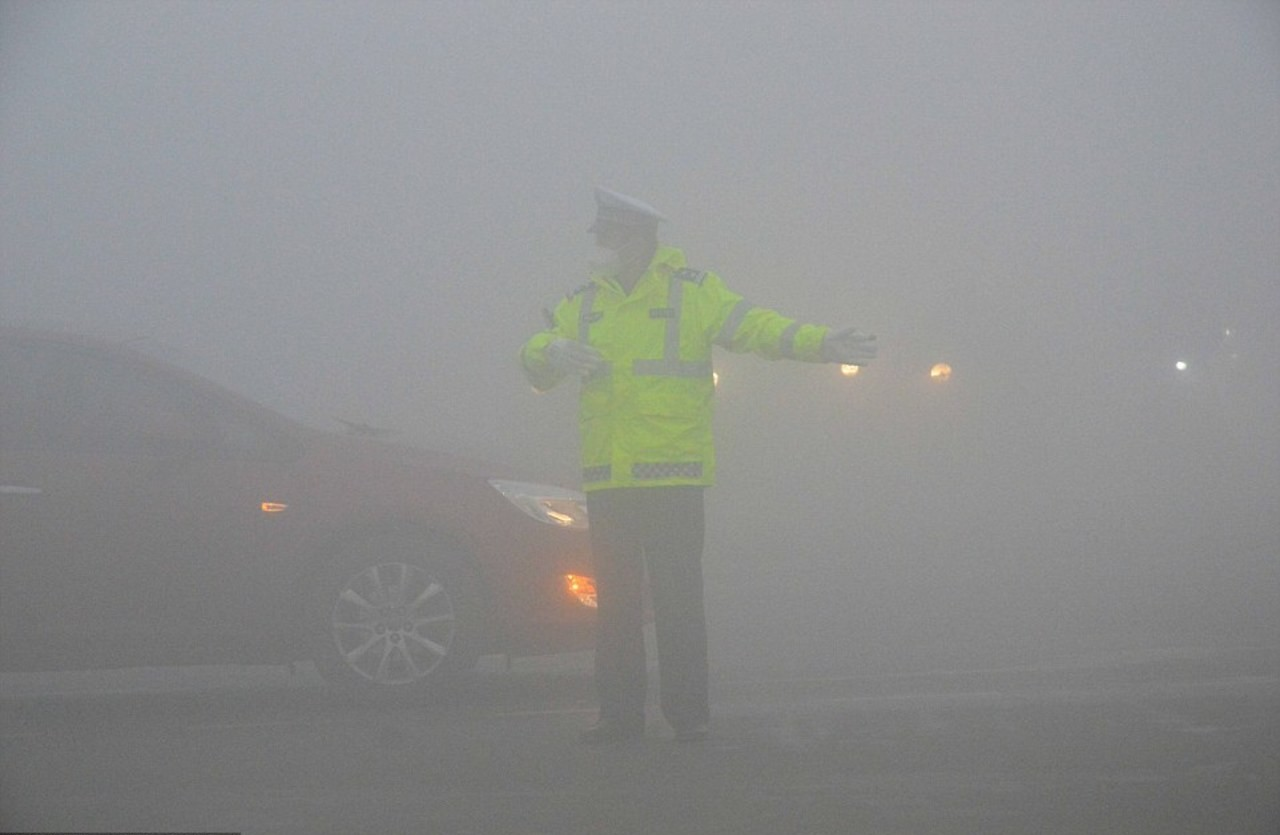car: (3, 318, 655, 698)
person: (507, 189, 885, 747)
